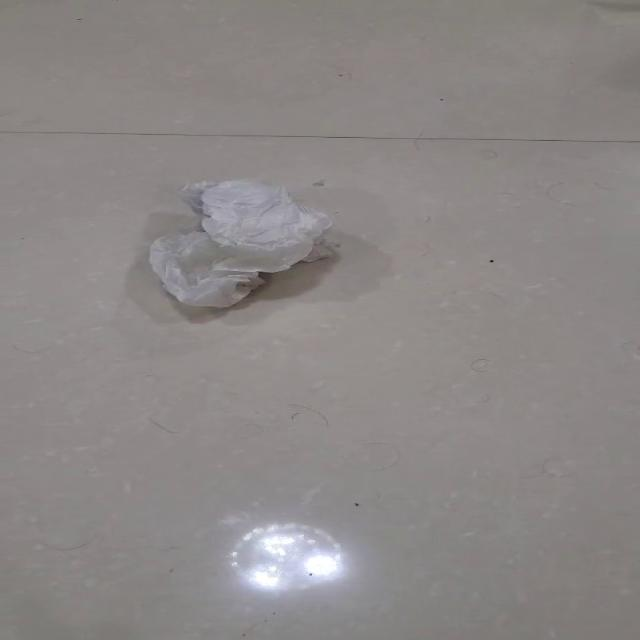plastic: (146, 177, 333, 308)
